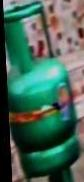cylinder: (1, 0, 84, 182)
